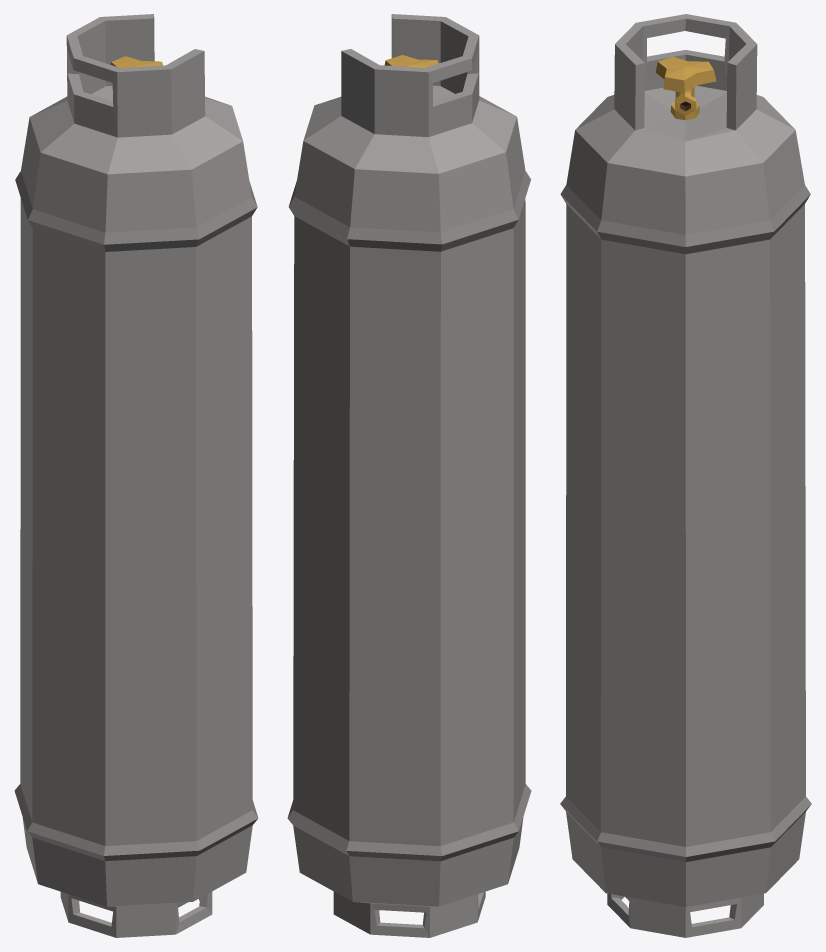
The model's file is SM_Prop_Propane_01.fbx.
3 renders of one model, left to right at view 1: azimuth 30°, elevation 25°; view 2: azimuth 150°, elevation 25°; view 3: azimuth 270°, elevation 25°, orthographic.
Visible parts, largest first — view 1: SM_Prop_Propane_01; view 2: SM_Prop_Propane_01; view 3: SM_Prop_Propane_01.
Part boxes in pixels (x1,y1,x2,y2): SM_Prop_Propane_01: (14,14,258,937); SM_Prop_Propane_01: (287,14,531,937); SM_Prop_Propane_01: (560,14,811,937).
Bounding box in the file's own units: 36.46 × 137 × 36.46.
